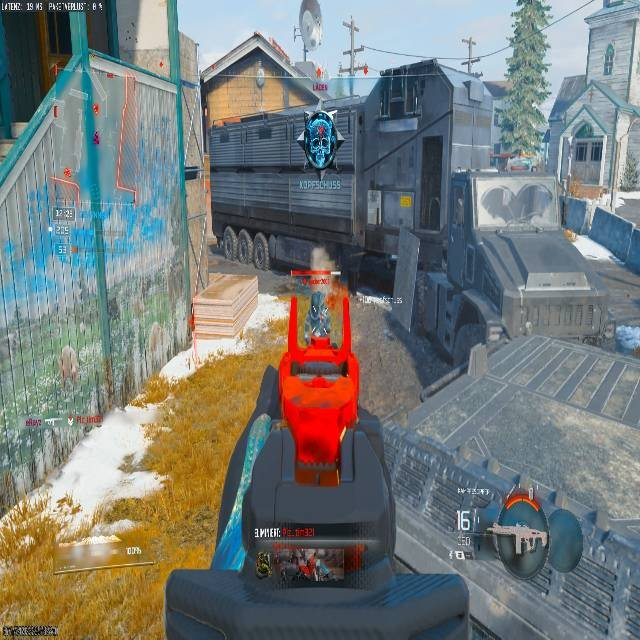head: (486, 499, 551, 575)
player: (303, 108, 340, 176)
